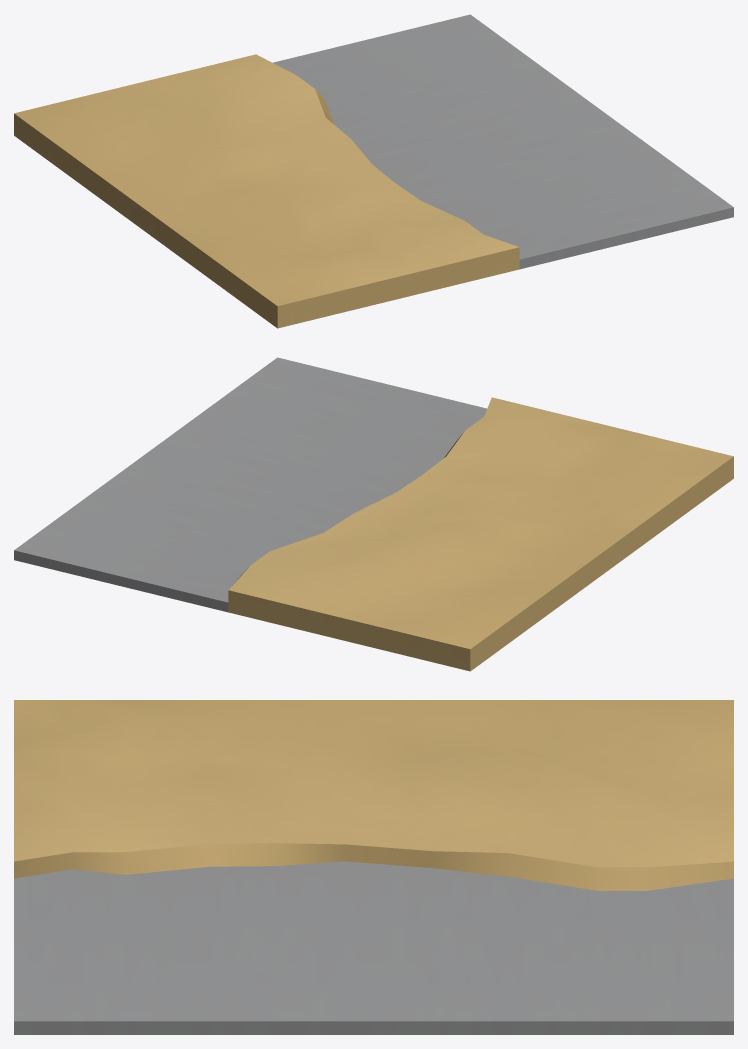
Rendered from ground_road_2_L.glb.
3 views of the same model, one above another, from view 1: azimuth 30°, elevation 25°; view 2: azimuth 150°, elevation 25°; view 3: azimuth 270°, elevation 25° (orthographic). The views are drawn at different scales.
Visible parts, largest first — view 1: ground_road_2_L; view 2: ground_road_2_L; view 3: ground_road_2_L.
Boxes of the visible parts, x1=… form: ground_road_2_L: x1=14, y1=14, x2=733, y2=328; ground_road_2_L: x1=14, y1=357, x2=733, y2=671; ground_road_2_L: x1=14, y1=700, x2=733, y2=1034.
Size of the model in its own units: 2 by 0.1193 by 2.
1 material, 1 textured.
